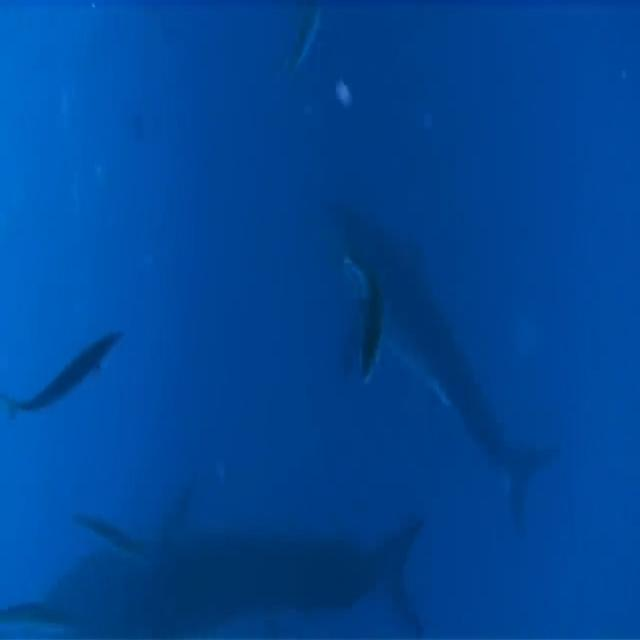Shark -Predatory-: (332, 199, 556, 532)
